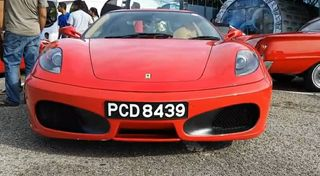License-Plate: (105, 101, 186, 117)
